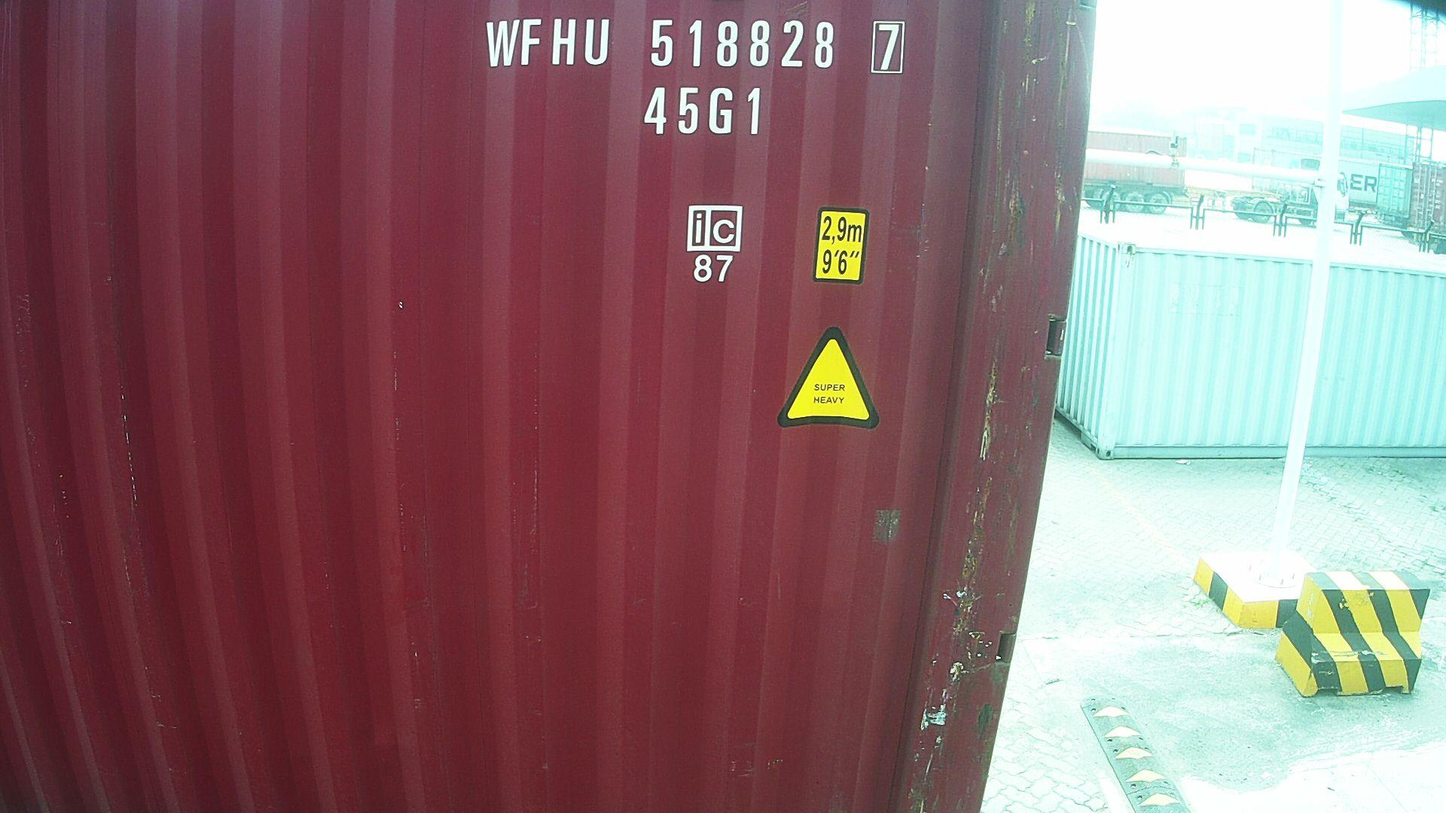container-numbers: (480, 14, 908, 77), (639, 82, 768, 141)
